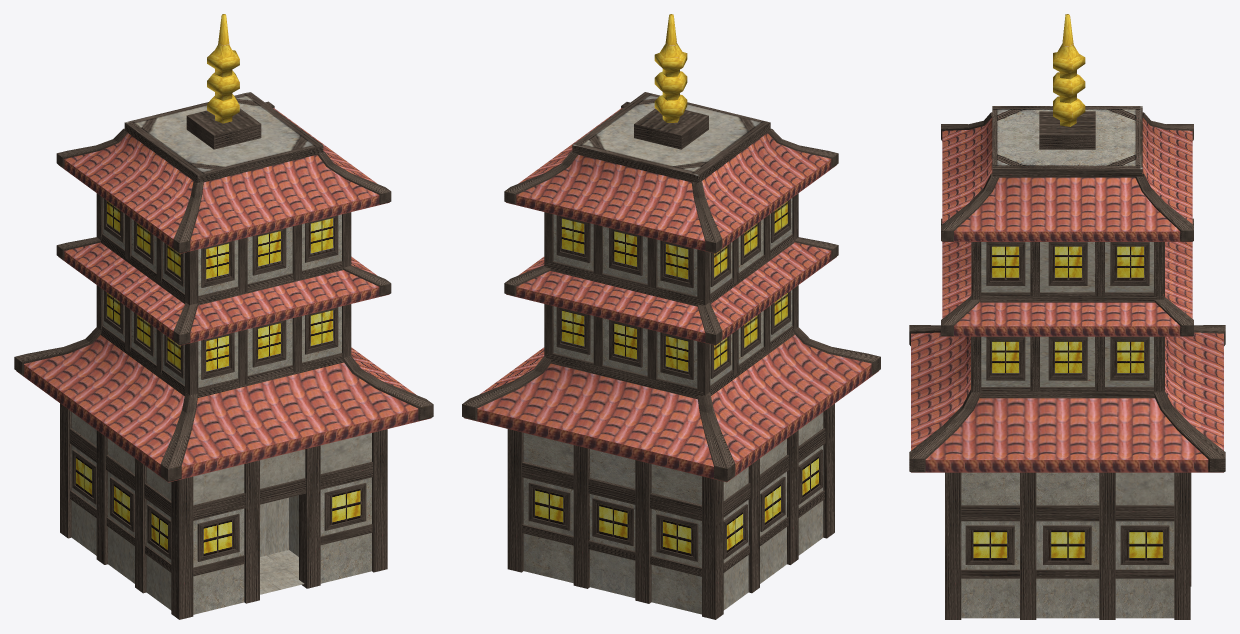
The model's file is casa-oriental-02.fbx.
The picture shows the model from 3 angles, left to right: view 1: azimuth 30°, elevation 25°; view 2: azimuth 150°, elevation 25°; view 3: azimuth 270°, elevation 25°; orthographic projection. The views are drawn at different scales.
Visible parts, largest first — view 1: Cube.000, Cube.002, Cube.001; view 2: Cube.000, Cube.002; view 3: Cube.000, Cube.002.
Boxes of the visible parts, <box> form: Cube.000: <box>14,14,433,619</box>; Cube.002: <box>75,200,361,556</box>; Cube.001: <box>260,495,304,594</box>; Cube.000: <box>462,14,880,619</box>; Cube.002: <box>533,201,819,556</box>; Cube.000: <box>909,14,1225,619</box>; Cube.002: <box>970,246,1164,560</box>.
Bounding box in the file's own units: 5.37 × 10.37 × 5.37.
